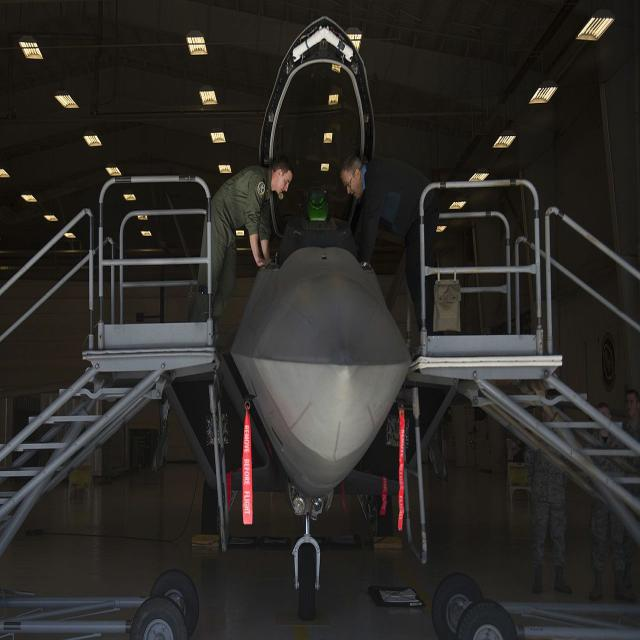MIL_Plane: (1, 15, 567, 619)
